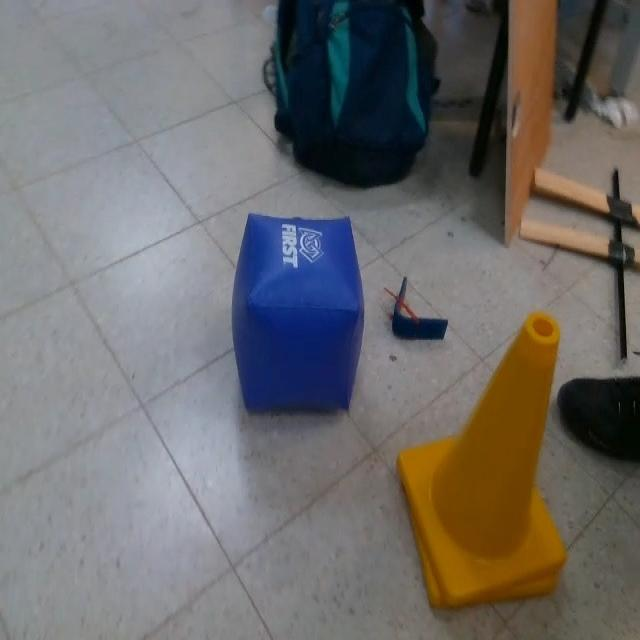cone: (396, 308, 566, 610)
cube: (232, 211, 366, 412)
